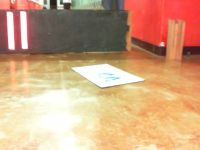switch: (19, 11, 28, 49), (6, 11, 14, 50)
